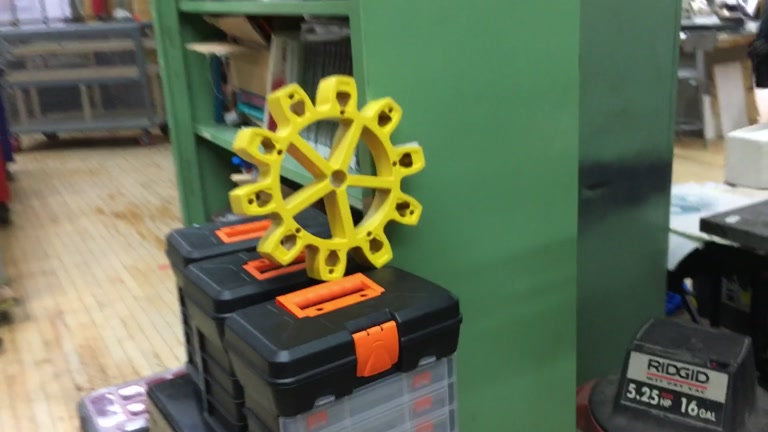gear: (227, 74, 426, 282)
